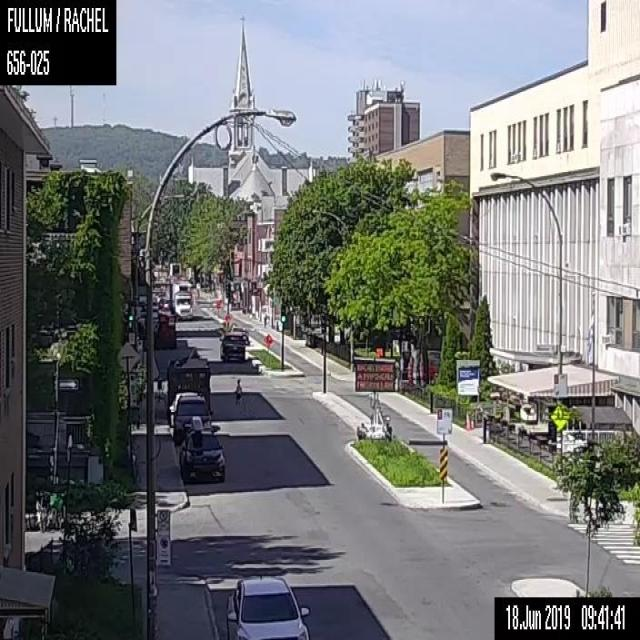construction: (352, 351, 396, 441), (128, 510, 136, 530), (224, 312, 231, 321), (215, 298, 221, 308), (354, 436, 356, 440)
pedestrian: (234, 376, 242, 409), (156, 368, 162, 401)
vehicle: (225, 572, 310, 639), (180, 415, 225, 481), (170, 395, 212, 439), (169, 392, 197, 426), (218, 331, 245, 361), (173, 279, 192, 318), (262, 332, 274, 347)
